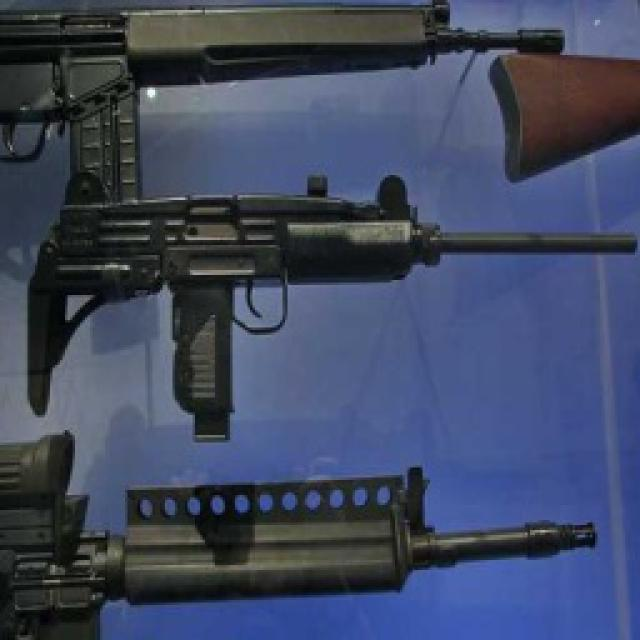long weapon: (3, 178, 615, 399), (0, 423, 556, 639)
